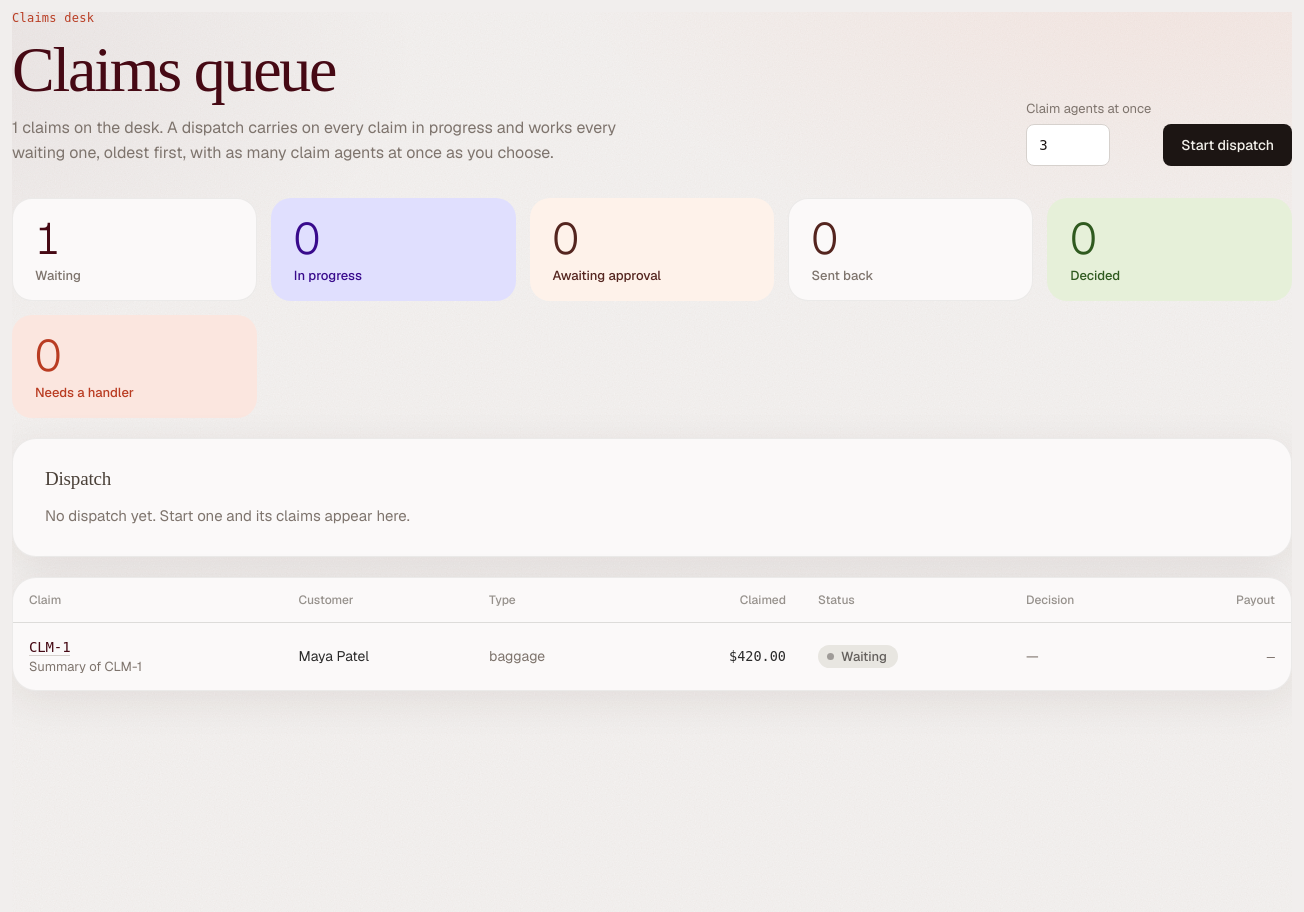
Test case: Queue › says so when the agent is not running
What coordinates should you click on to do the following:
click the button "Start dispatch"
I would click on:
 (1228, 145)
Its box is [1163,124,1292,166].
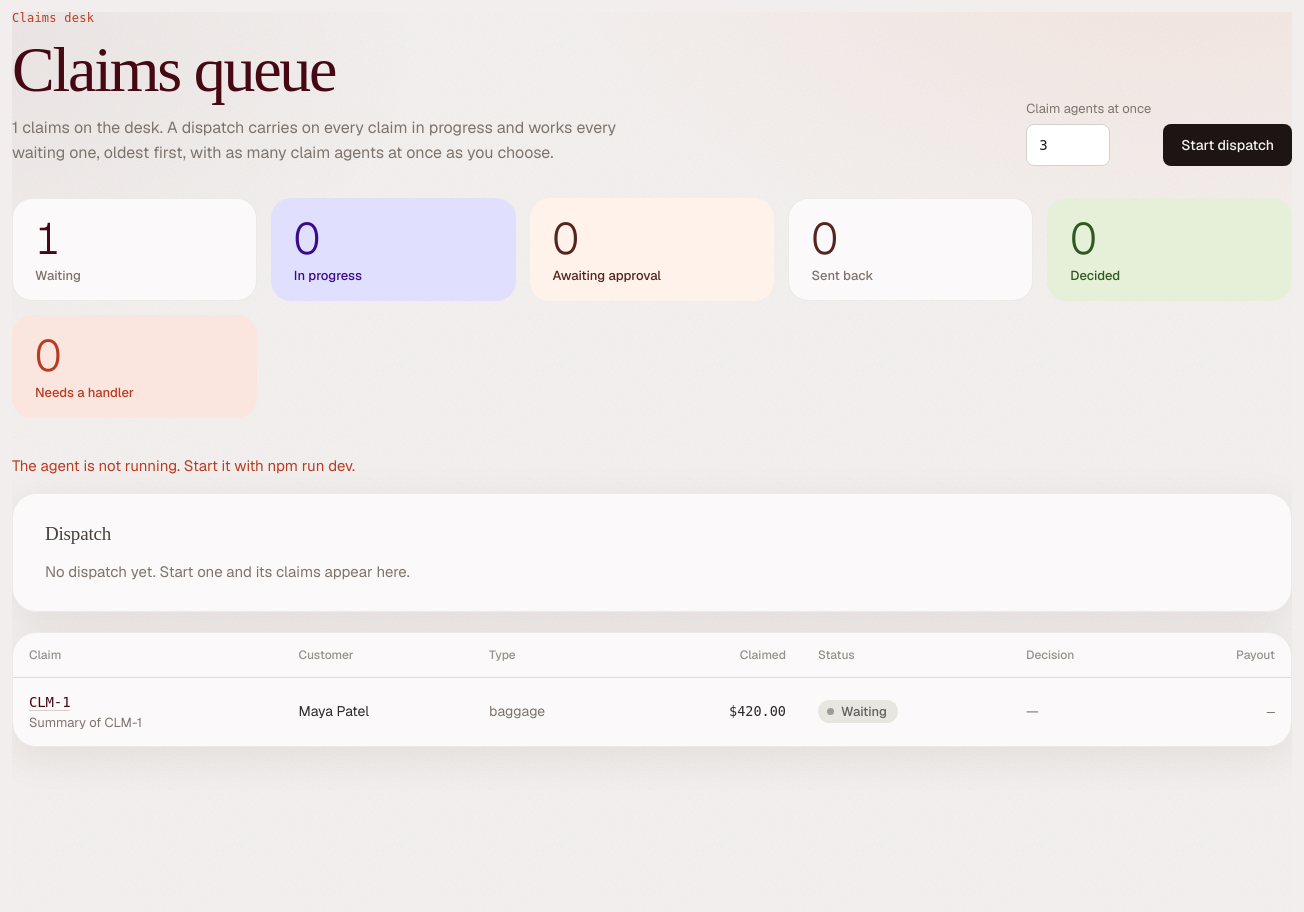
Check: the text "The agent is not running. Start it with npm run dev." is shown, box [12,454,355,477]
